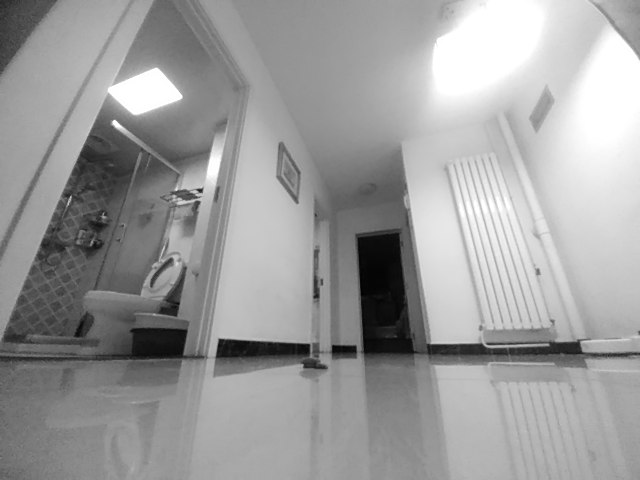pet feces: (301, 357, 328, 373)
